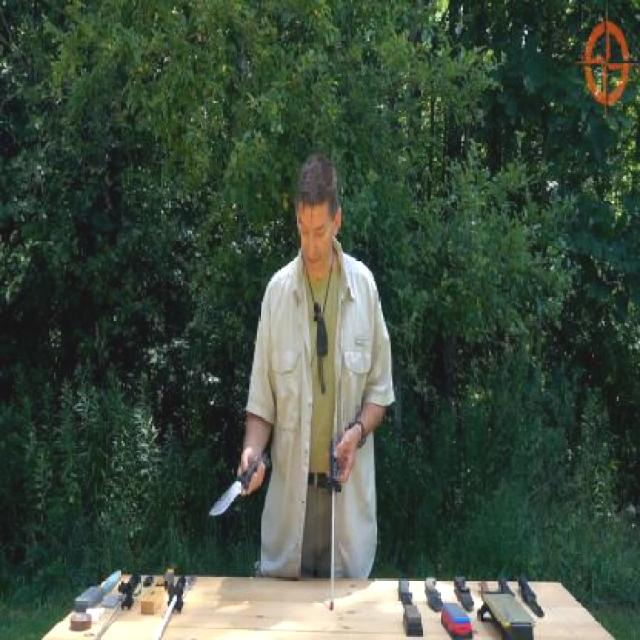knife: (206, 449, 266, 517)
